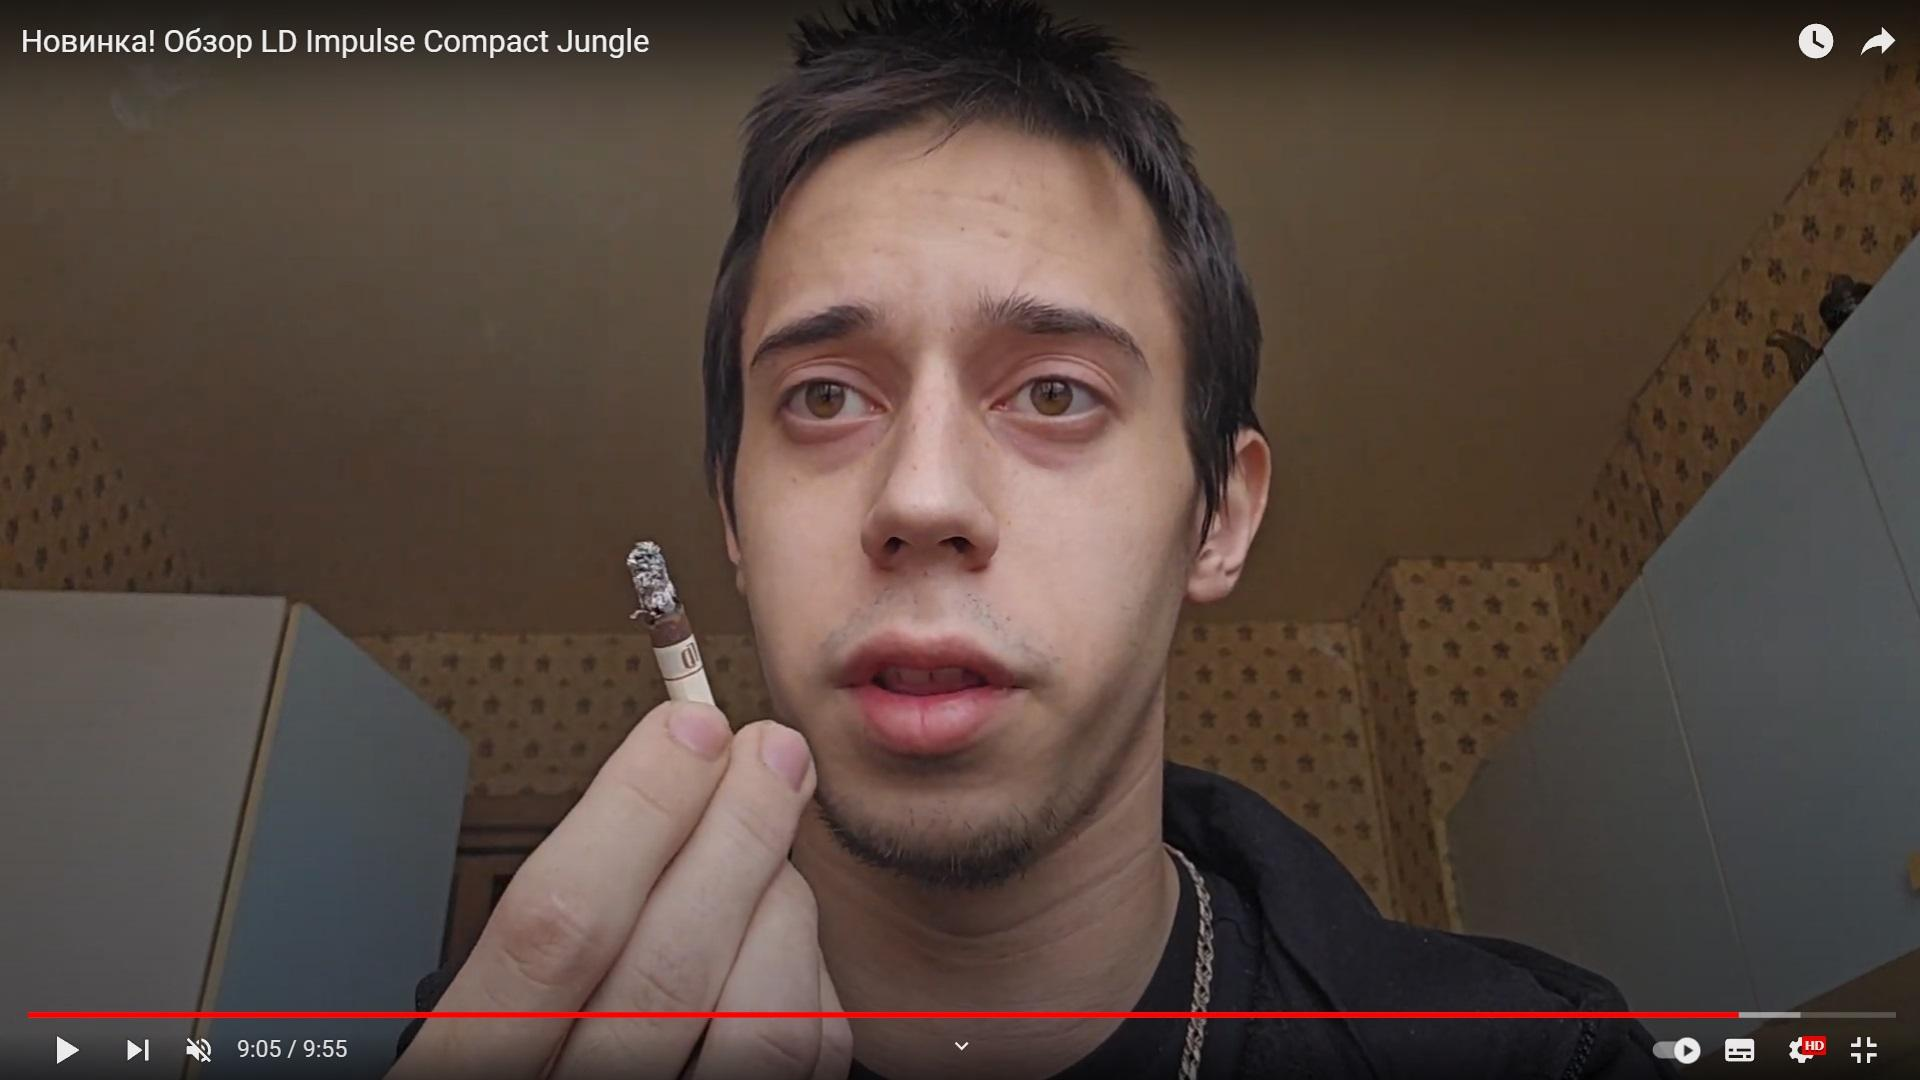cigarette: (626, 541, 717, 705)
